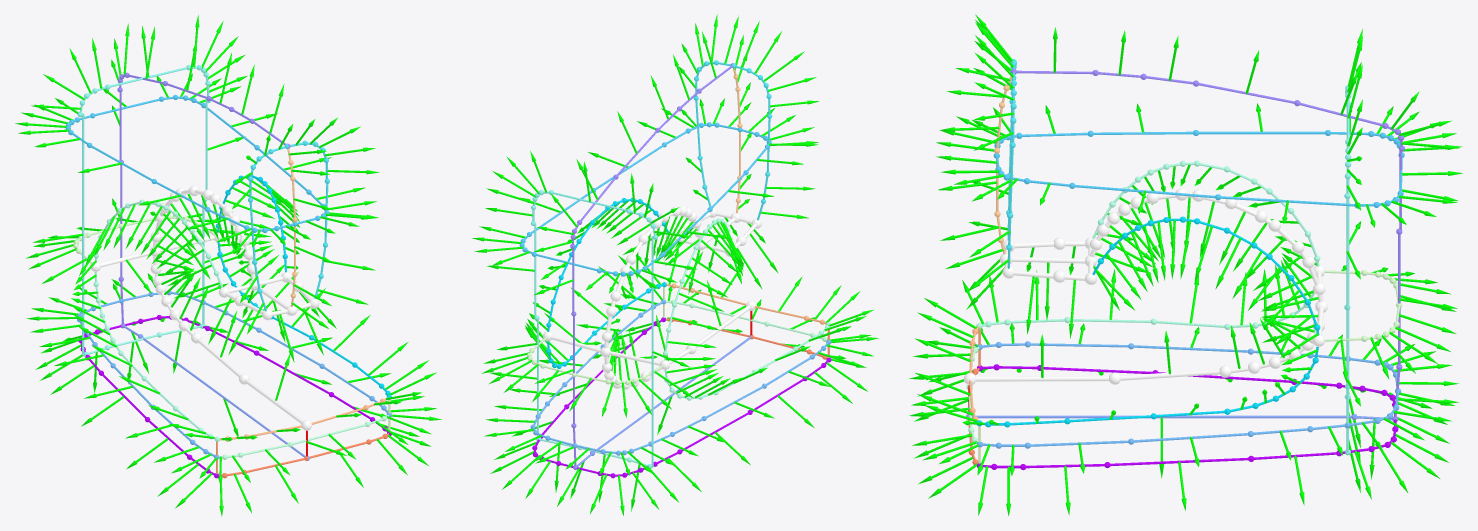
The model's file is t2f_sewing_machine.gltf.
3 renders of one model, left to right at view 1: azimuth 30°, elevation 25°; view 2: azimuth 150°, elevation 25°; view 3: azimuth 270°, elevation 25°, orthographic. The views are drawn at different scales.
Bounding box in the file's own units: 0.5803 × 0.8006 × 0.8858.
